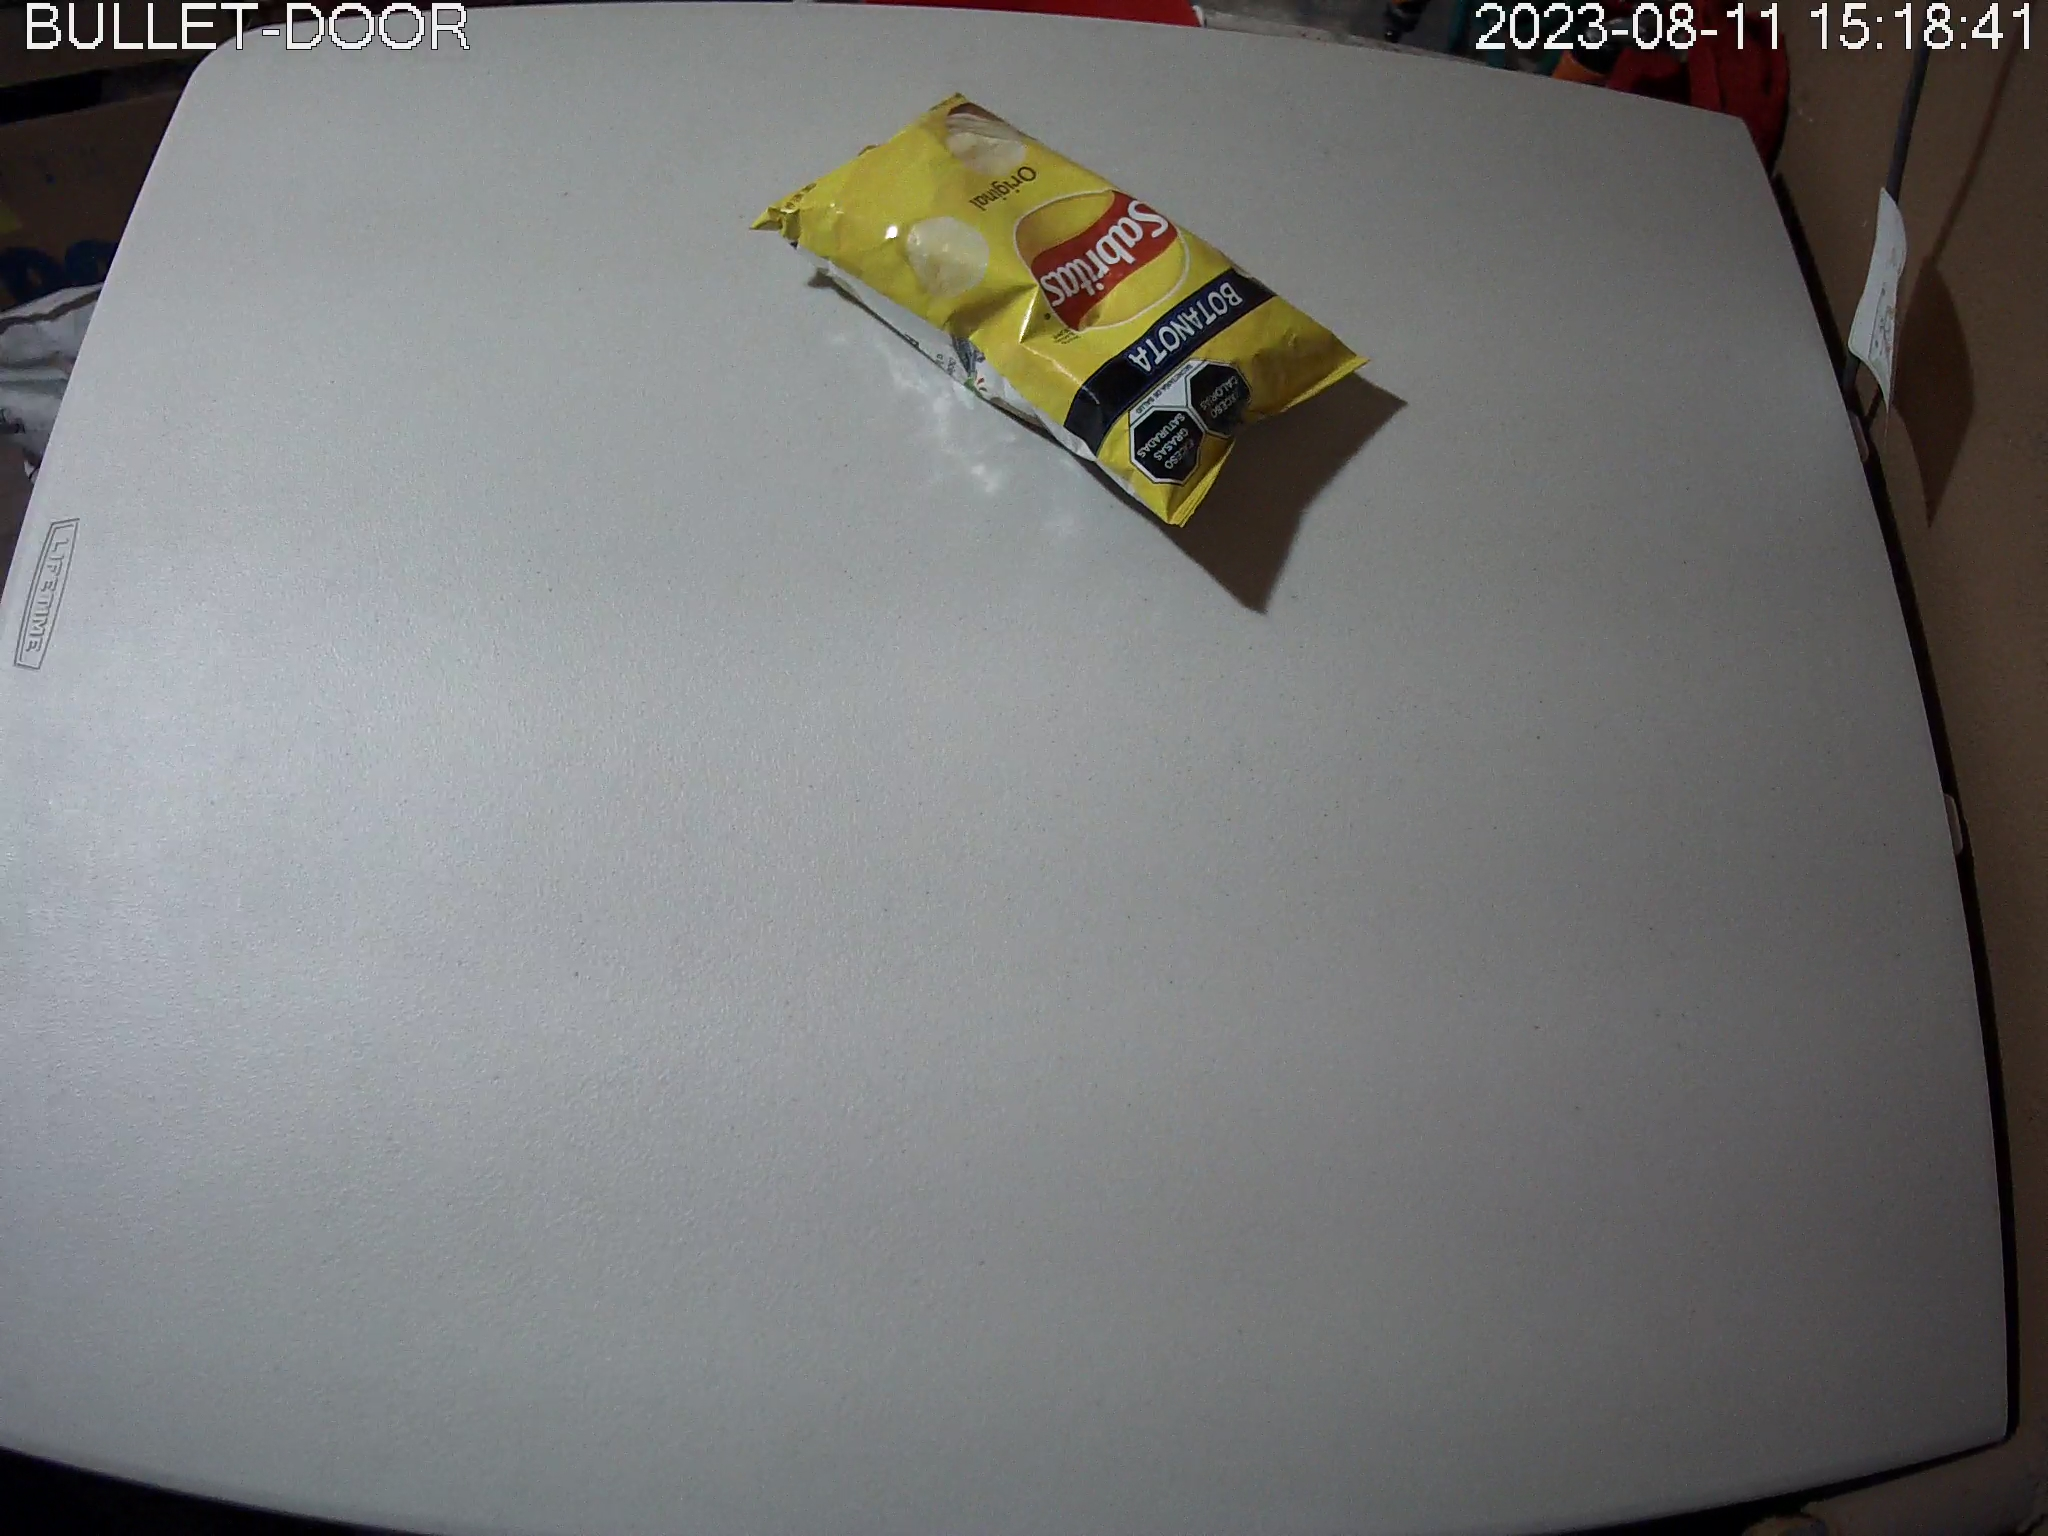Sabritas_64_F: (748, 92, 1372, 532)
